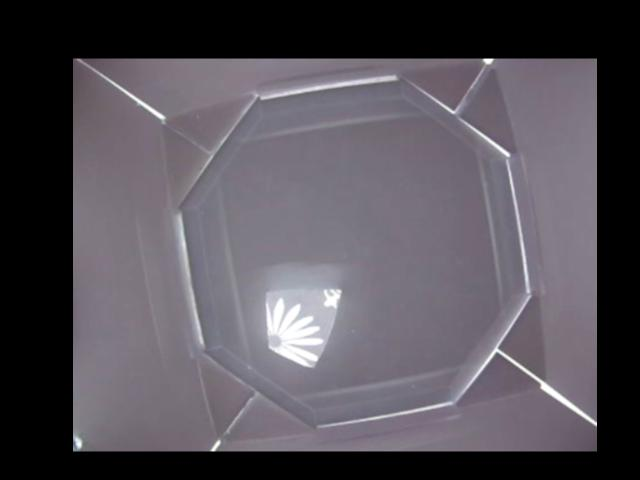China: (264, 287, 344, 367)
